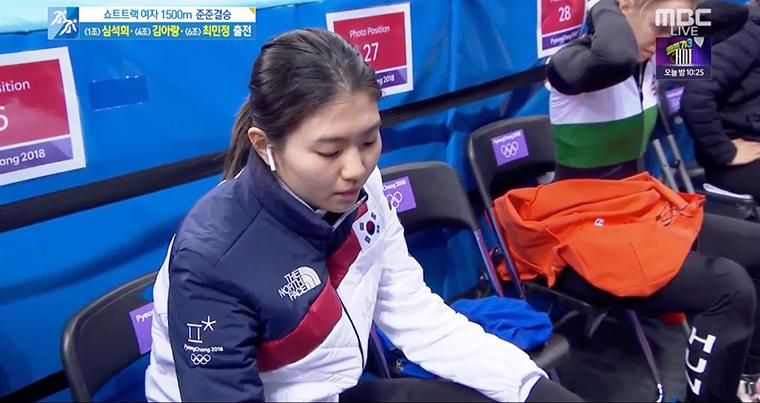earphone: (260, 138, 280, 172)
